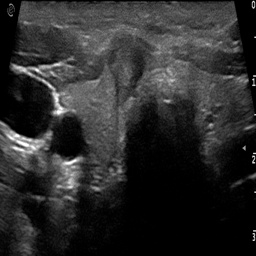mass: (107, 41, 143, 98)
